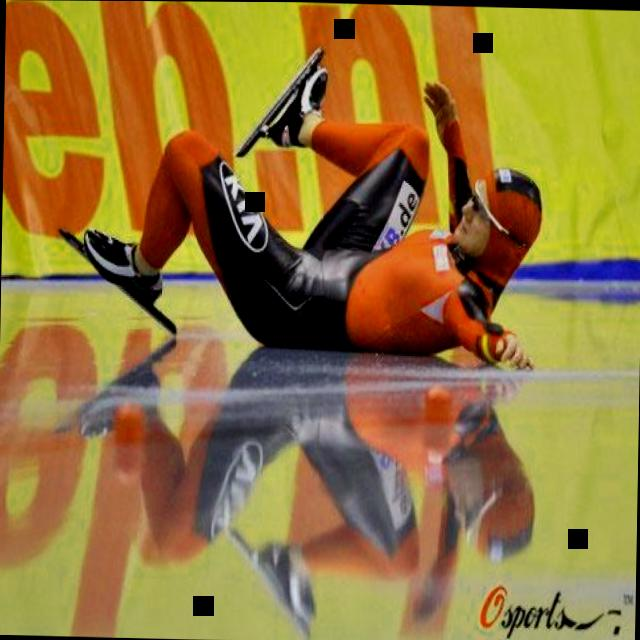Fall-Detected: (80, 24, 558, 364)
